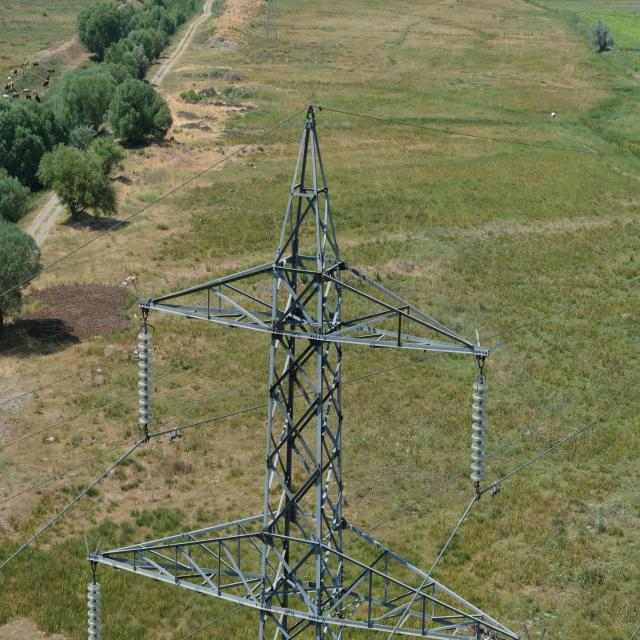direk: (256, 113, 346, 636)
tree: (76, 5, 187, 70), (39, 144, 120, 216), (0, 97, 67, 183), (101, 79, 180, 140), (55, 68, 118, 130), (0, 228, 42, 314)
